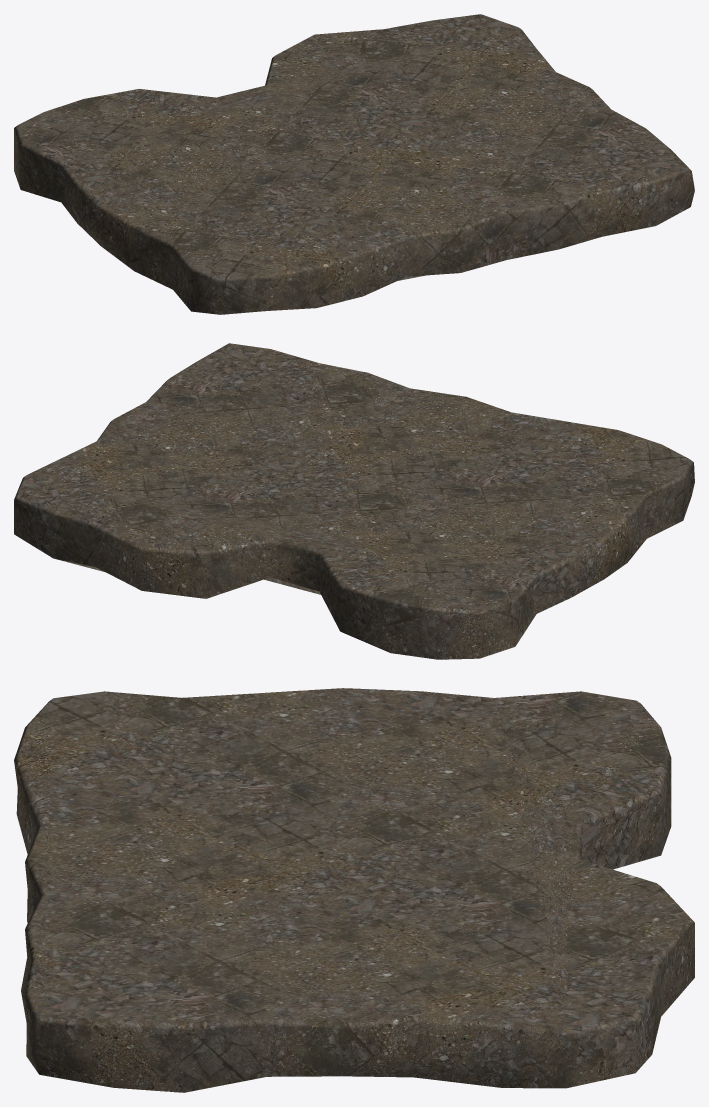
The model's file is TELEMA_OrcCamp_Platform_A-transformed.glb.
The picture shows the model from 3 angles, top to bottom: view 1: azimuth 30°, elevation 25°; view 2: azimuth 150°, elevation 25°; view 3: azimuth 270°, elevation 25°; orthographic projection. The views are drawn at different scales.
Visible parts, largest first — view 1: default; view 2: default; view 3: default.
Part boxes in pixels (x1,y1,x2,y2): default: (14,14,694,314); default: (14,343,694,659); default: (14,688,694,1092).
Bounding box in the file's own units: 5.16 × 0.512 × 4.28.
1 material, 1 textured.
